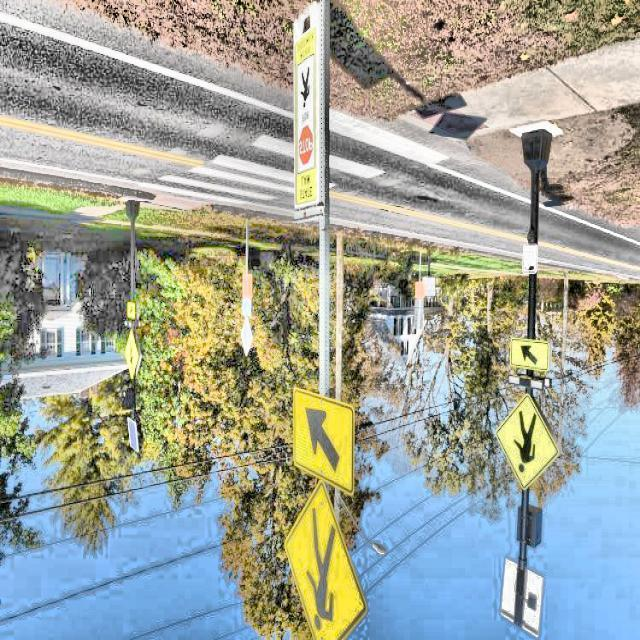crosswalk: (136, 100, 465, 211)
